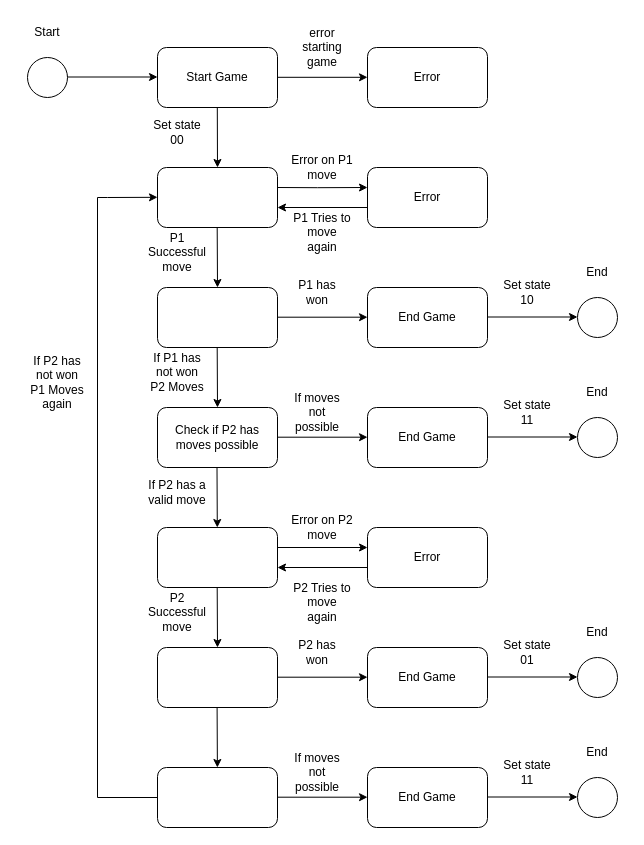
This 644x845 diagram has some shape labels left out. The centre of each missing label's shape, as x and y in pixels:
Check if P1 has moves possible: point 217,797
Check if P1 Wins: point 217,317
Check if P2 Wins: point 217,677
P1 Moves: point 217,197
P2 Moves: point 217,557
